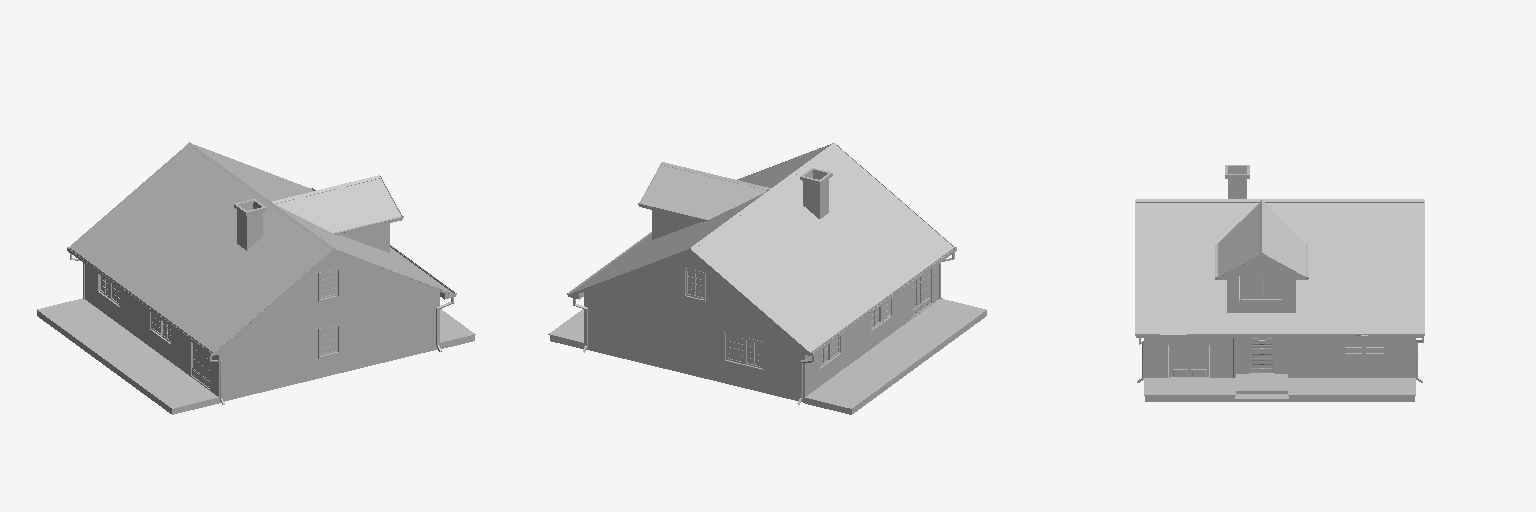
Rendered from casa 2.obj.
3 renders of one model, left to right at view 1: azimuth 30°, elevation 25°; view 2: azimuth 150°, elevation 25°; view 3: azimuth 270°, elevation 25°, orthographic.
Visible parts, largest first — view 1: outsidewalls_am02; view 2: outsidewalls_am02; view 3: outsidewalls_am02.
Part boxes in pixels (x1,y1,x2,y2): outsidewalls_am02: (37, 142, 475, 414); outsidewalls_am02: (548, 142, 986, 414); outsidewalls_am02: (1135, 165, 1424, 401).
Size of the model in its own units: 53.67 by 24.51 by 44.37.